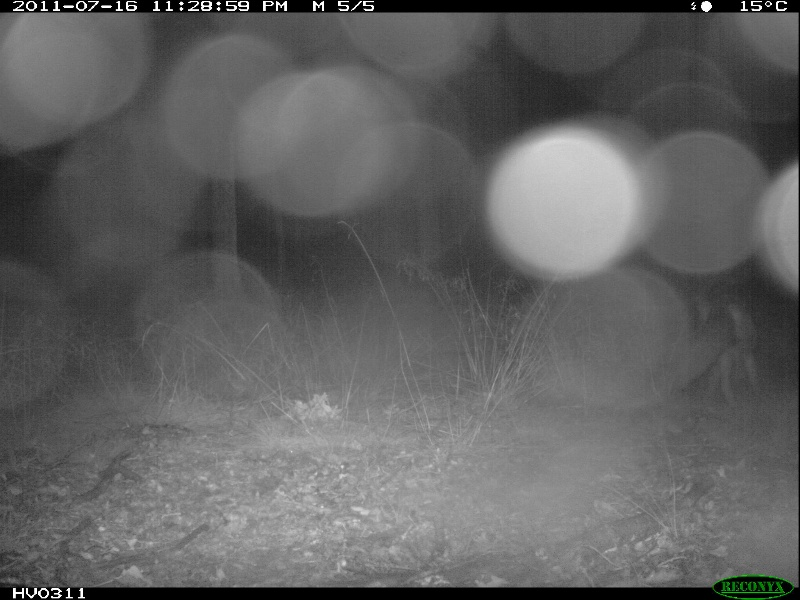fox: (670, 297, 763, 404)
